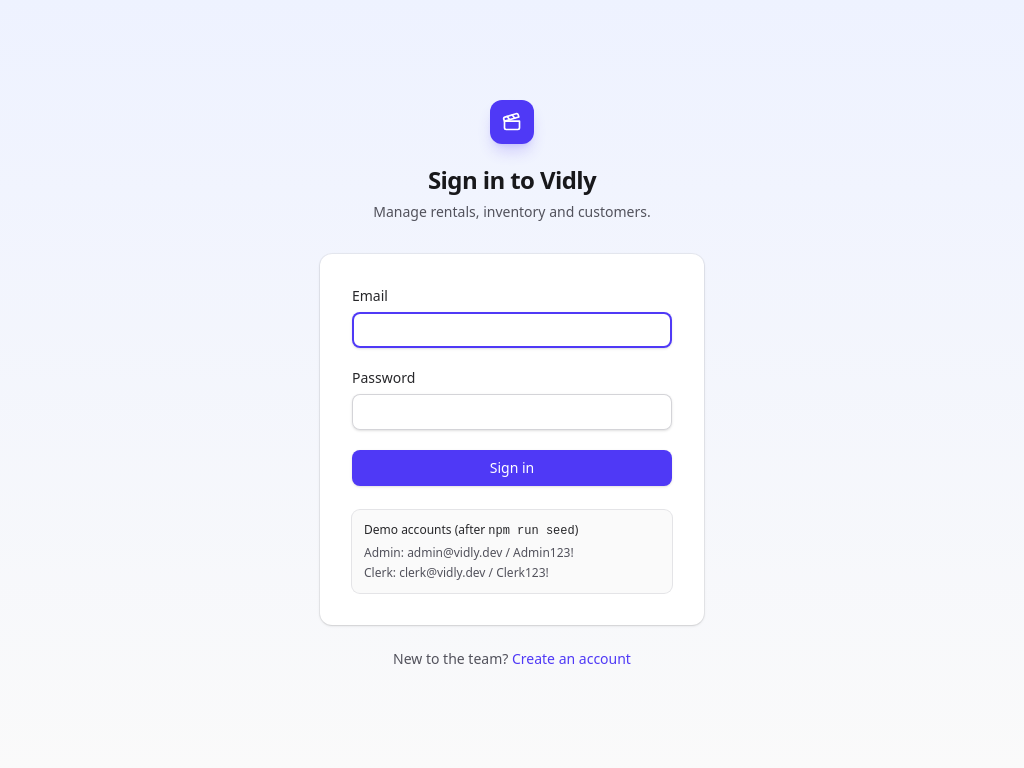
Test: LoginPage › shows a friendly message for wrong credentials
This screenshot has width=1024, height=768.
Type "admin@vidly.dev" into the field labelled "Email" at (512,330), box [352,312,672,348]
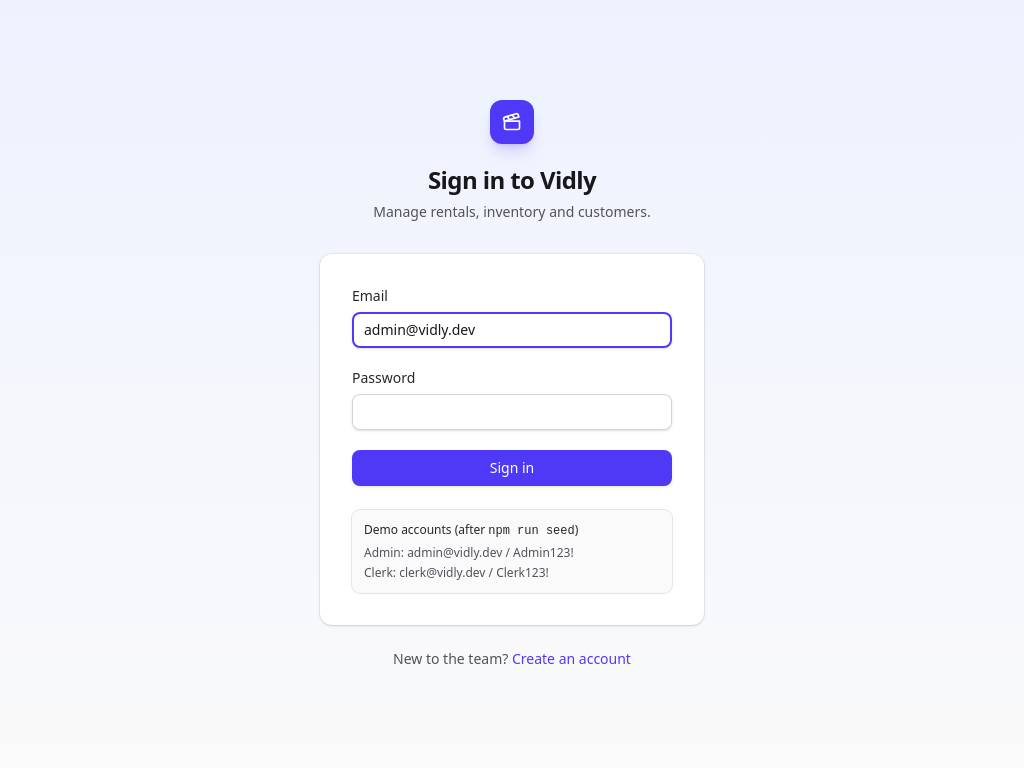
Type "wrong" into the password field labelled "Password" at (512,412), box [352,394,672,430]
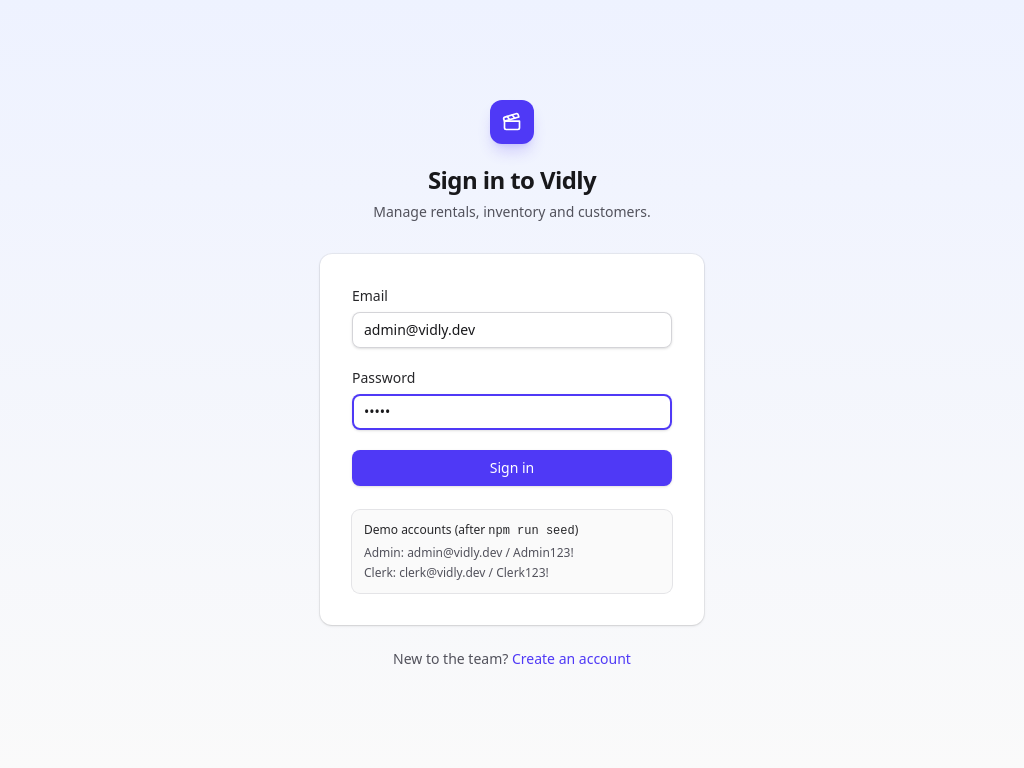
Click the button "Sign in" at (512,468), box [352,450,672,486]
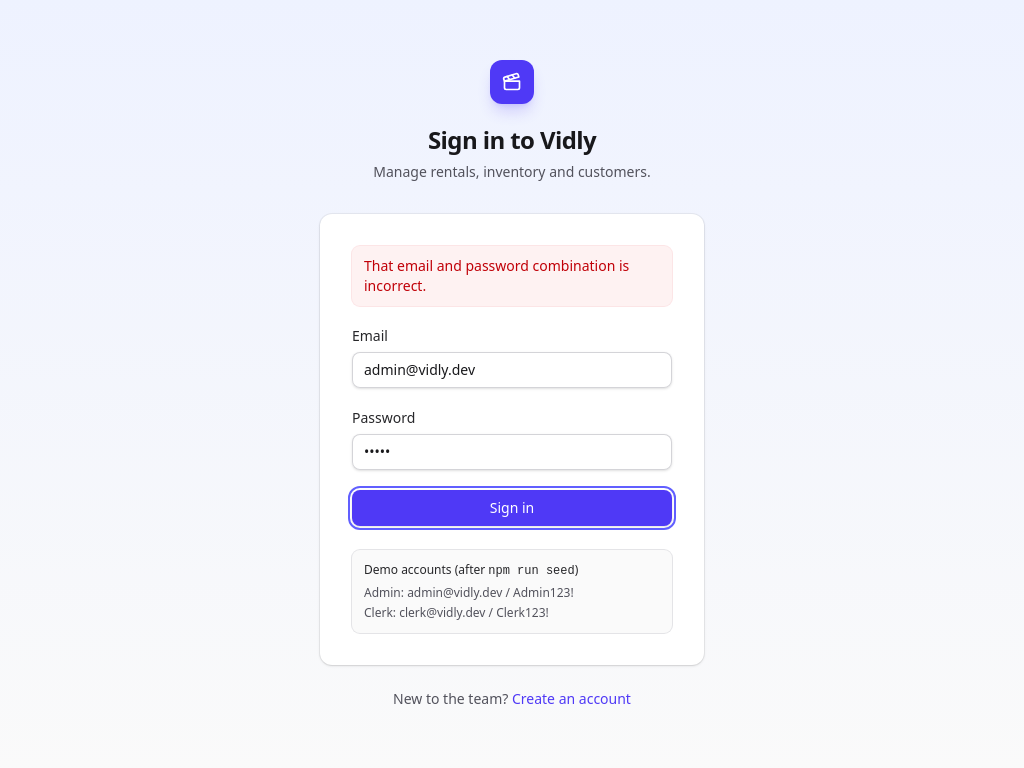
Check: the message reads "That email and password combination is incorrect.", box [364,256,629,294]
